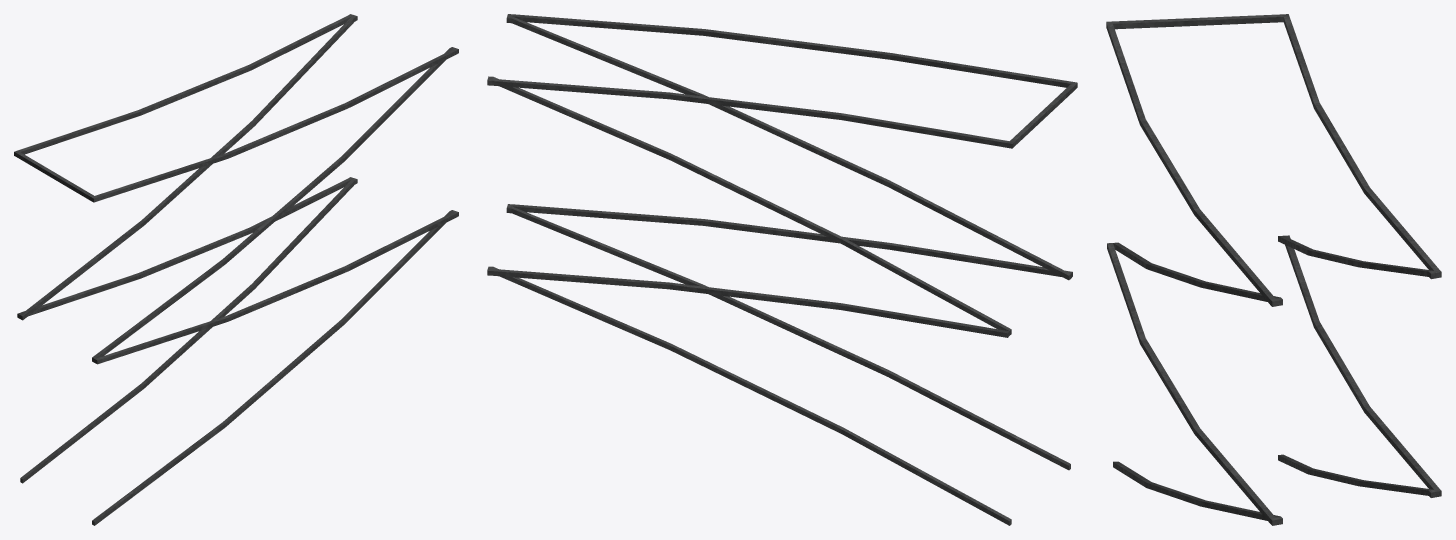
File: Railings.glb
3 views of the same model, side by side, from view 1: azimuth 30°, elevation 25°; view 2: azimuth 150°, elevation 25°; view 3: azimuth 270°, elevation 25° (orthographic). The views are drawn at different scales.
Visible parts, largest first — view 1: Railings; view 2: Railings; view 3: Railings.
Boxes of the visible parts, <box> form: Railings: <box>14,14,458,525</box>; Railings: <box>487,14,1077,525</box>; Railings: <box>1106,14,1441,525</box>.
Bounding box in the file's own units: 22.82 × 16.4 × 11.25.
1 material, 1 textured.
